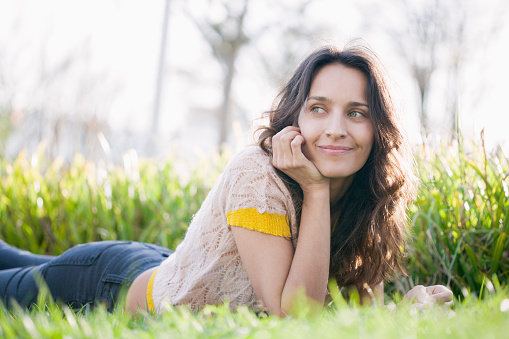deitado: (184, 27, 446, 325)
